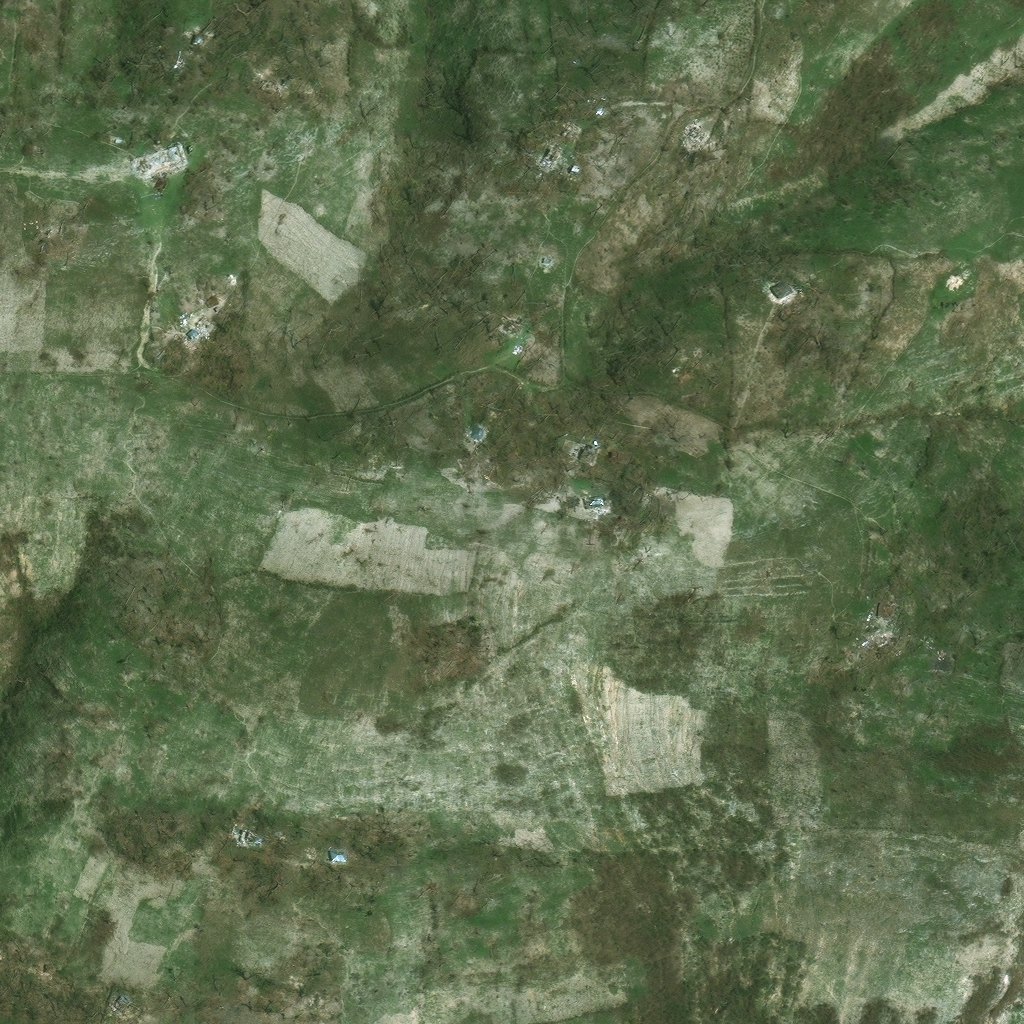destroyed: (671, 129, 694, 151), (532, 153, 548, 173), (552, 127, 569, 145), (503, 318, 522, 334), (935, 280, 950, 294), (568, 507, 583, 520), (949, 270, 962, 282), (672, 368, 683, 378), (539, 256, 549, 264), (558, 172, 564, 180)
major_damage: (569, 449, 589, 468), (767, 285, 782, 301), (871, 608, 884, 622)
